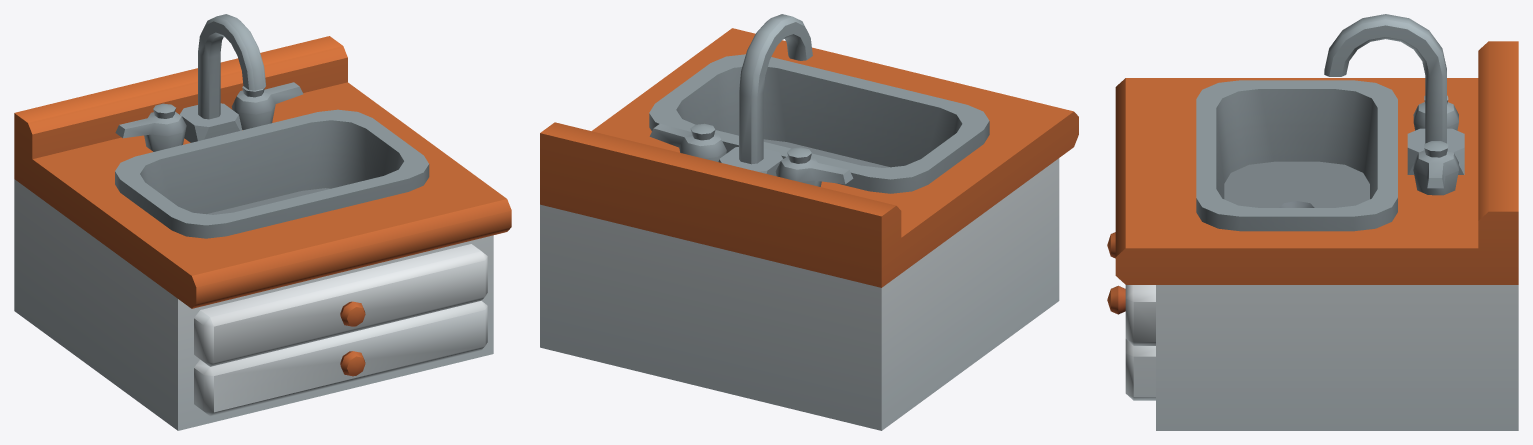
The model's file is kay-kitchencounter_sink_backsplash.glb.
3 renders of one model, left to right at view 1: azimuth 30°, elevation 25°; view 2: azimuth 150°, elevation 25°; view 3: azimuth 270°, elevation 25°, orthographic. The views are drawn at different scales.
Parts seen in each view (by area): view 1: kitchencounter_sink_backsplash; view 2: kitchencounter_sink_backsplash; view 3: kitchencounter_sink_backsplash.
Part boxes in pixels (x1,y1,x2,y2): kitchencounter_sink_backsplash: (14,14,511,430); kitchencounter_sink_backsplash: (540,14,1078,430); kitchencounter_sink_backsplash: (1107,14,1518,430).
Bounding box in the file's own units: 1.18 × 1.06 × 1.2.
Materials: 1 (1 with a texture image).
